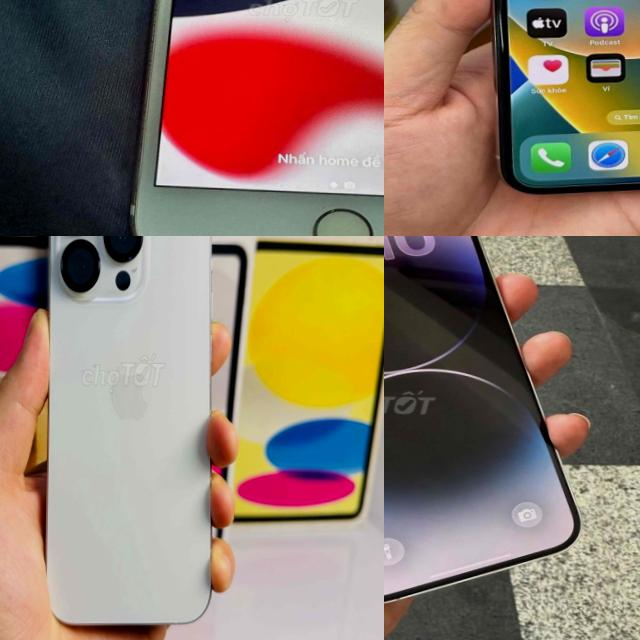gen_14: (384, 236, 588, 616)
gen_15: (31, 236, 226, 637)
gen_7_8: (118, 0, 384, 236)
gen_x_xs: (468, 0, 640, 202)
scratch: (134, 42, 154, 172), (148, 0, 173, 43)
